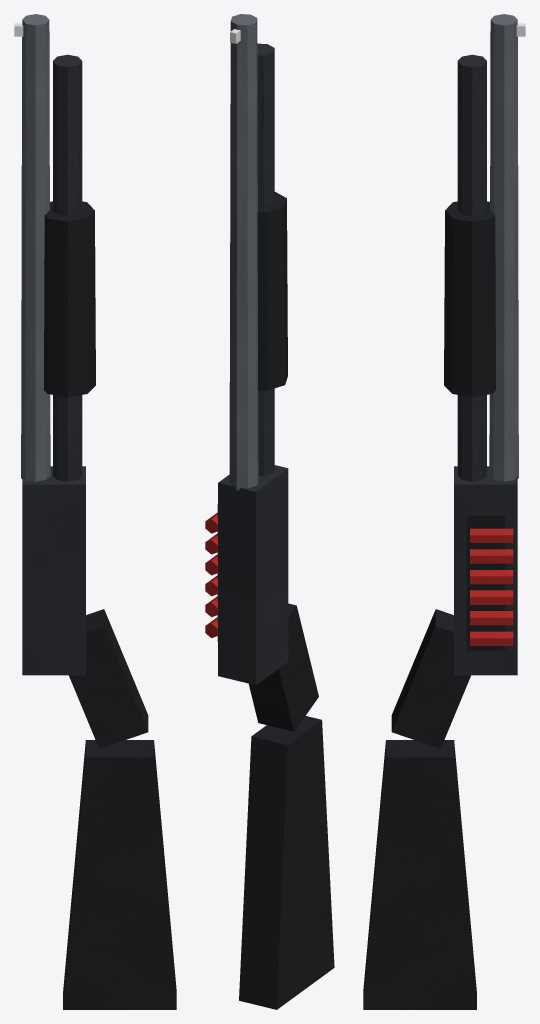
File: weapon_pump.glb
The picture shows the model from 3 angles, left to right: view 1: azimuth 90°, elevation 25°; view 2: azimuth 150°, elevation 25°; view 3: azimuth 270°, elevation 25°; orthographic projection.
Visible parts, largest first — view 1: Weapon_Pump; view 2: Weapon_Pump; view 3: Weapon_Pump.
Part boxes in pixels (<box>): Weapon_Pump: <box>14,14,176,1009</box>; Weapon_Pump: <box>205,14,334,1009</box>; Weapon_Pump: <box>363,14,525,1009</box>.
Size of the model in its own units: 0.0591 by 0.9525 by 0.143.
5 materials, 4 textured.
